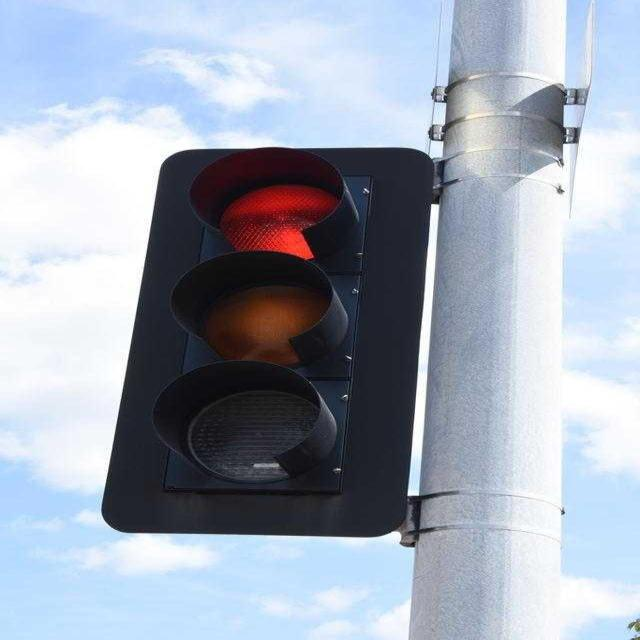Traffic Light -Red-: (97, 123, 381, 544)
